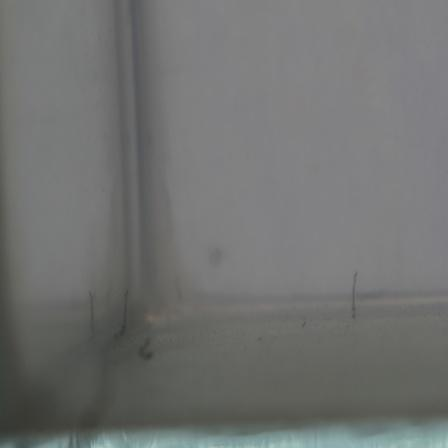Jentik-Nyamuk: (344, 268, 364, 321), (115, 283, 133, 341)
